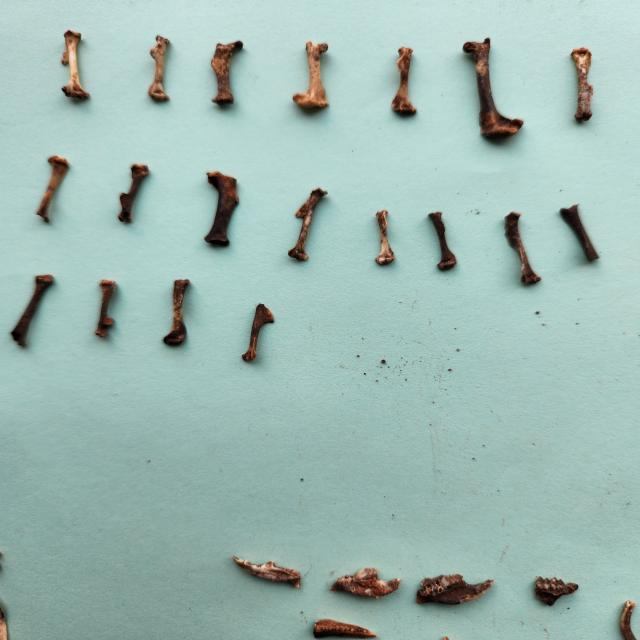fossil: (446, 32, 537, 150), (280, 32, 346, 118), (192, 164, 252, 253), (45, 22, 106, 109), (281, 182, 337, 270), (489, 206, 546, 292), (5, 268, 60, 356), (29, 151, 82, 229), (381, 38, 429, 124), (562, 37, 604, 132), (552, 201, 611, 268), (322, 560, 408, 604), (138, 31, 184, 112), (412, 568, 500, 610), (108, 158, 158, 229), (226, 550, 308, 593), (205, 35, 252, 109), (419, 208, 467, 278), (157, 275, 199, 353), (236, 299, 279, 370), (362, 205, 405, 272), (85, 273, 125, 343), (530, 573, 589, 611), (310, 613, 383, 640), (616, 595, 640, 640)
